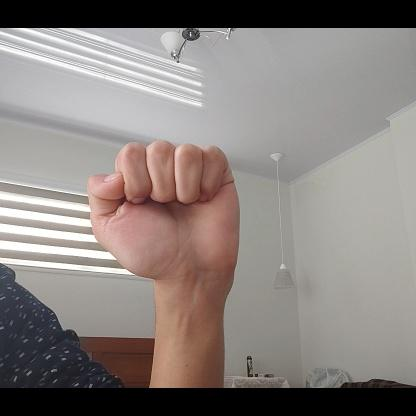A: (85, 140, 241, 278)
